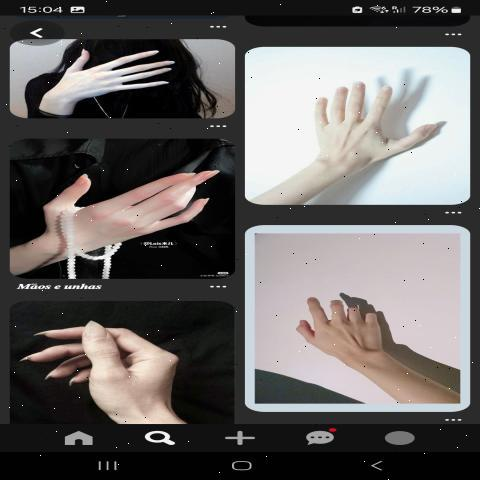Hands: (16, 151, 224, 265), (17, 304, 206, 421), (292, 60, 456, 191), (284, 279, 406, 389), (45, 42, 204, 108)
